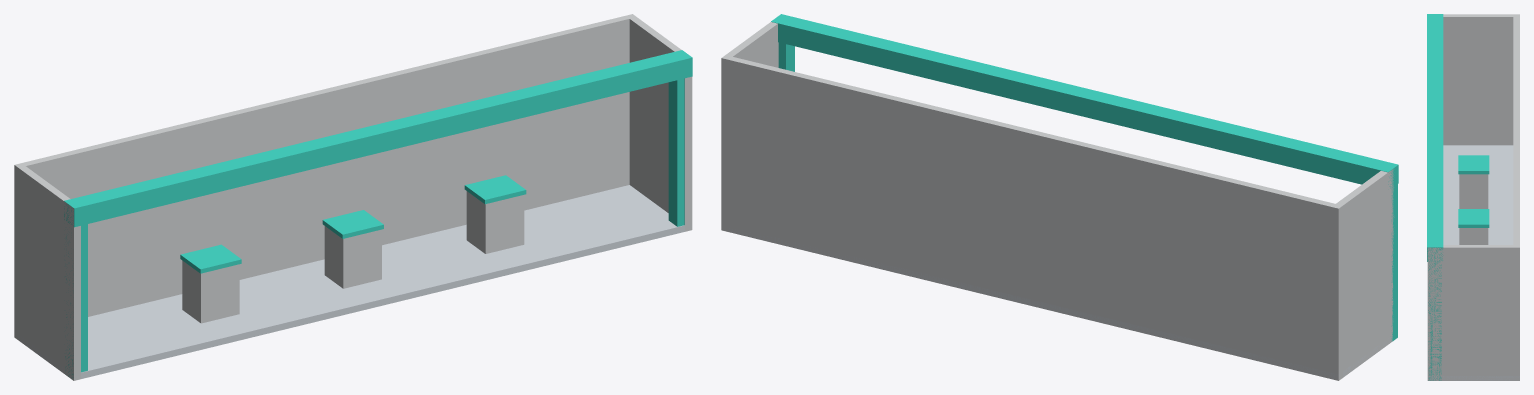
3 views of the same model, side by side, from view 1: azimuth 30°, elevation 25°; view 2: azimuth 150°, elevation 25°; view 3: azimuth 270°, elevation 25° (orthographic). The views are drawn at different scales.
Visible parts, largest first — view 1: Exhibition Booth Concept; view 2: Exhibition Booth Concept; view 3: Exhibition Booth Concept.
Part boxes in pixels (left/top/right/bottom): Exhibition Booth Concept: left=14, top=14, right=692, bottom=380; Exhibition Booth Concept: left=721, top=14, right=1398, bottom=380; Exhibition Booth Concept: left=1427, top=14, right=1519, bottom=380.
Bounding box in the file's own units: 12 × 3.2 × 2.01.
